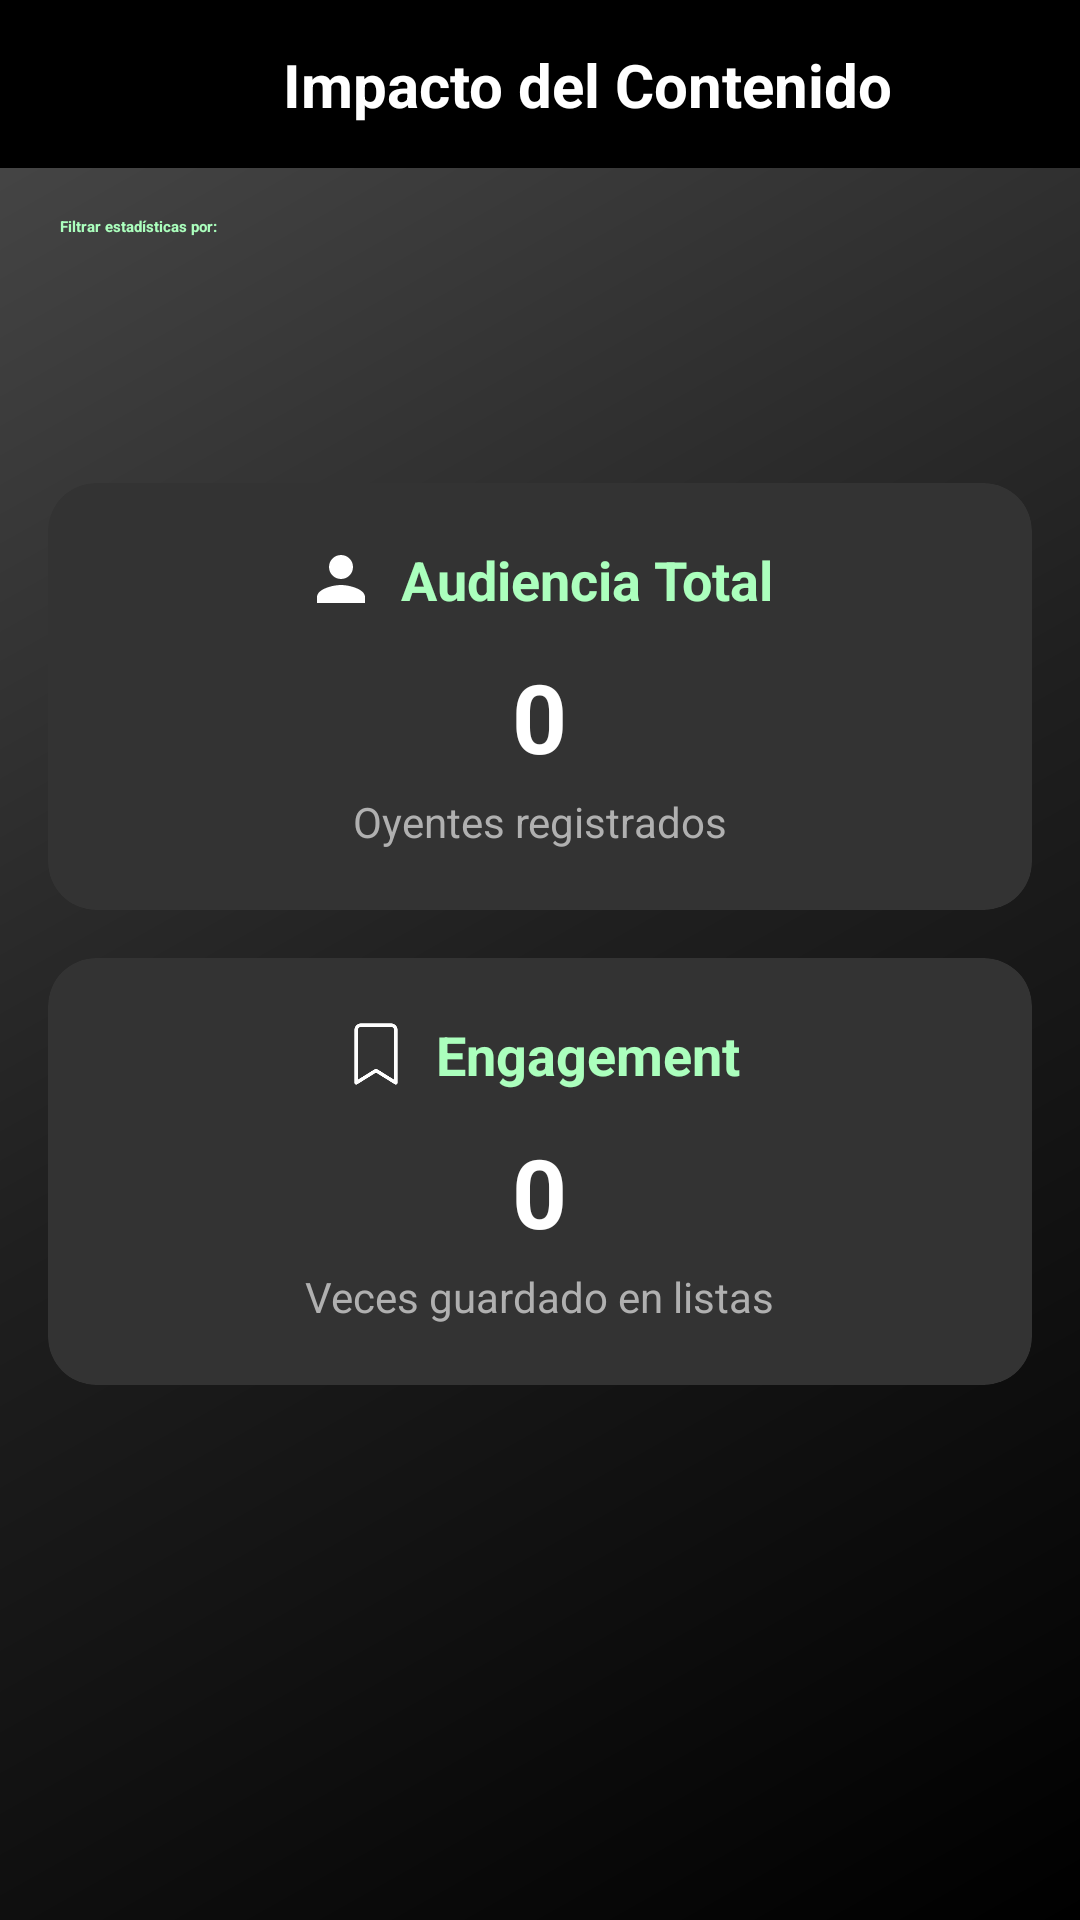

Named icons in this screenshot (1080px×1920px) and their centers, (x,y):
save: (376,1054)
usuario perfil: (341,579)
